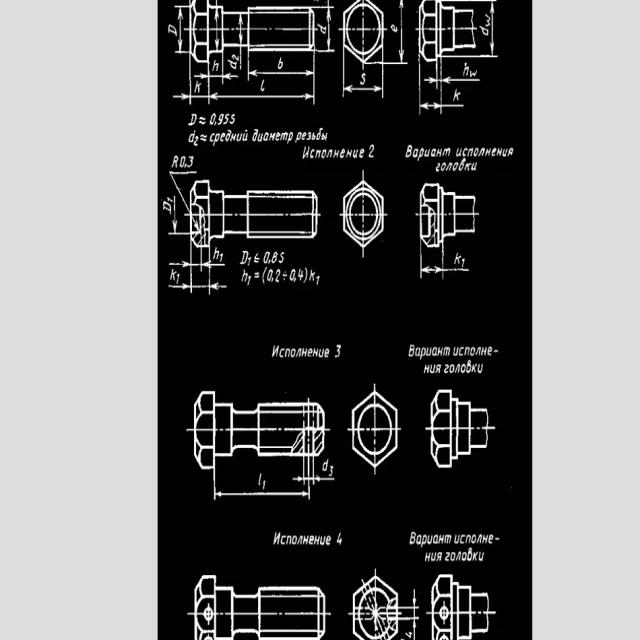marking_line: (173, 63, 319, 106), (212, 469, 310, 503), (166, 247, 229, 297), (417, 62, 464, 114), (247, 51, 317, 81), (419, 248, 470, 280), (339, 64, 385, 99), (383, 0, 407, 64), (424, 63, 480, 90), (210, 90, 317, 104), (169, 248, 228, 273), (476, 0, 497, 62), (292, 458, 338, 486), (168, 195, 191, 237), (195, 63, 240, 84), (399, 588, 416, 640), (316, 6, 335, 52), (174, 5, 189, 54), (214, 9, 219, 50), (238, 15, 244, 44), (192, 217, 200, 231)
numeric: (162, 200, 172, 215), (478, 23, 489, 36), (188, 129, 197, 144), (168, 24, 178, 36), (240, 250, 248, 265), (462, 61, 469, 77), (453, 87, 460, 103), (317, 23, 327, 34), (367, 144, 374, 159), (334, 344, 341, 359), (189, 113, 197, 126), (271, 251, 278, 265), (274, 269, 281, 283), (276, 58, 284, 70), (209, 113, 217, 125), (179, 155, 186, 168), (454, 252, 461, 265), (228, 59, 237, 69), (224, 112, 230, 127), (360, 71, 366, 85), (212, 60, 219, 72), (187, 156, 194, 168), (263, 251, 270, 263), (309, 269, 315, 283), (470, 69, 479, 78), (194, 81, 200, 94), (279, 251, 285, 264), (172, 155, 178, 168), (241, 269, 247, 282), (337, 532, 343, 545), (485, 12, 490, 27), (230, 113, 236, 125), (391, 23, 398, 33), (218, 113, 223, 127), (267, 269, 272, 283), (290, 267, 295, 281), (405, 629, 412, 639), (298, 268, 303, 281), (193, 135, 198, 147), (247, 274, 252, 286), (232, 53, 239, 61), (261, 79, 265, 92), (167, 197, 173, 204), (462, 257, 465, 269), (247, 257, 251, 265)
special_symbol: (261, 266, 267, 284), (199, 115, 206, 126), (254, 252, 260, 264), (201, 133, 208, 143), (304, 268, 308, 284), (316, 275, 320, 287), (254, 272, 260, 279)
